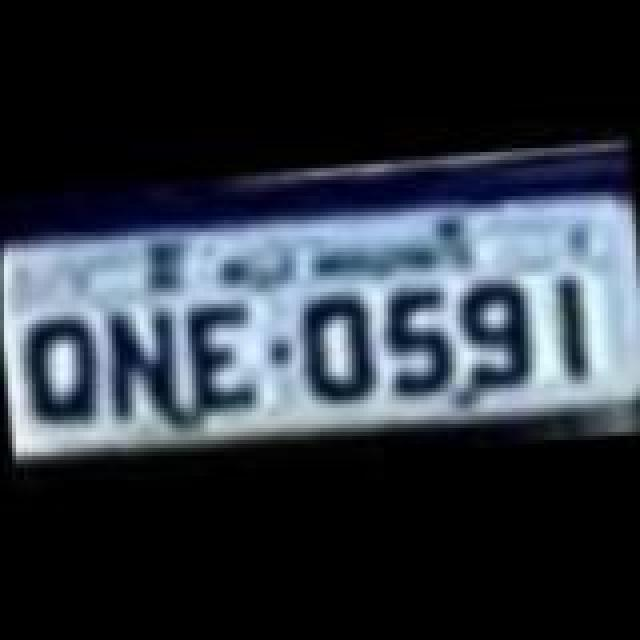1: (552, 270, 604, 386)
5: (376, 284, 460, 404)
9: (456, 278, 540, 398)
E: (188, 300, 264, 420)
N: (98, 302, 186, 426)
O: (292, 292, 384, 408)
Q: (16, 314, 100, 430)
